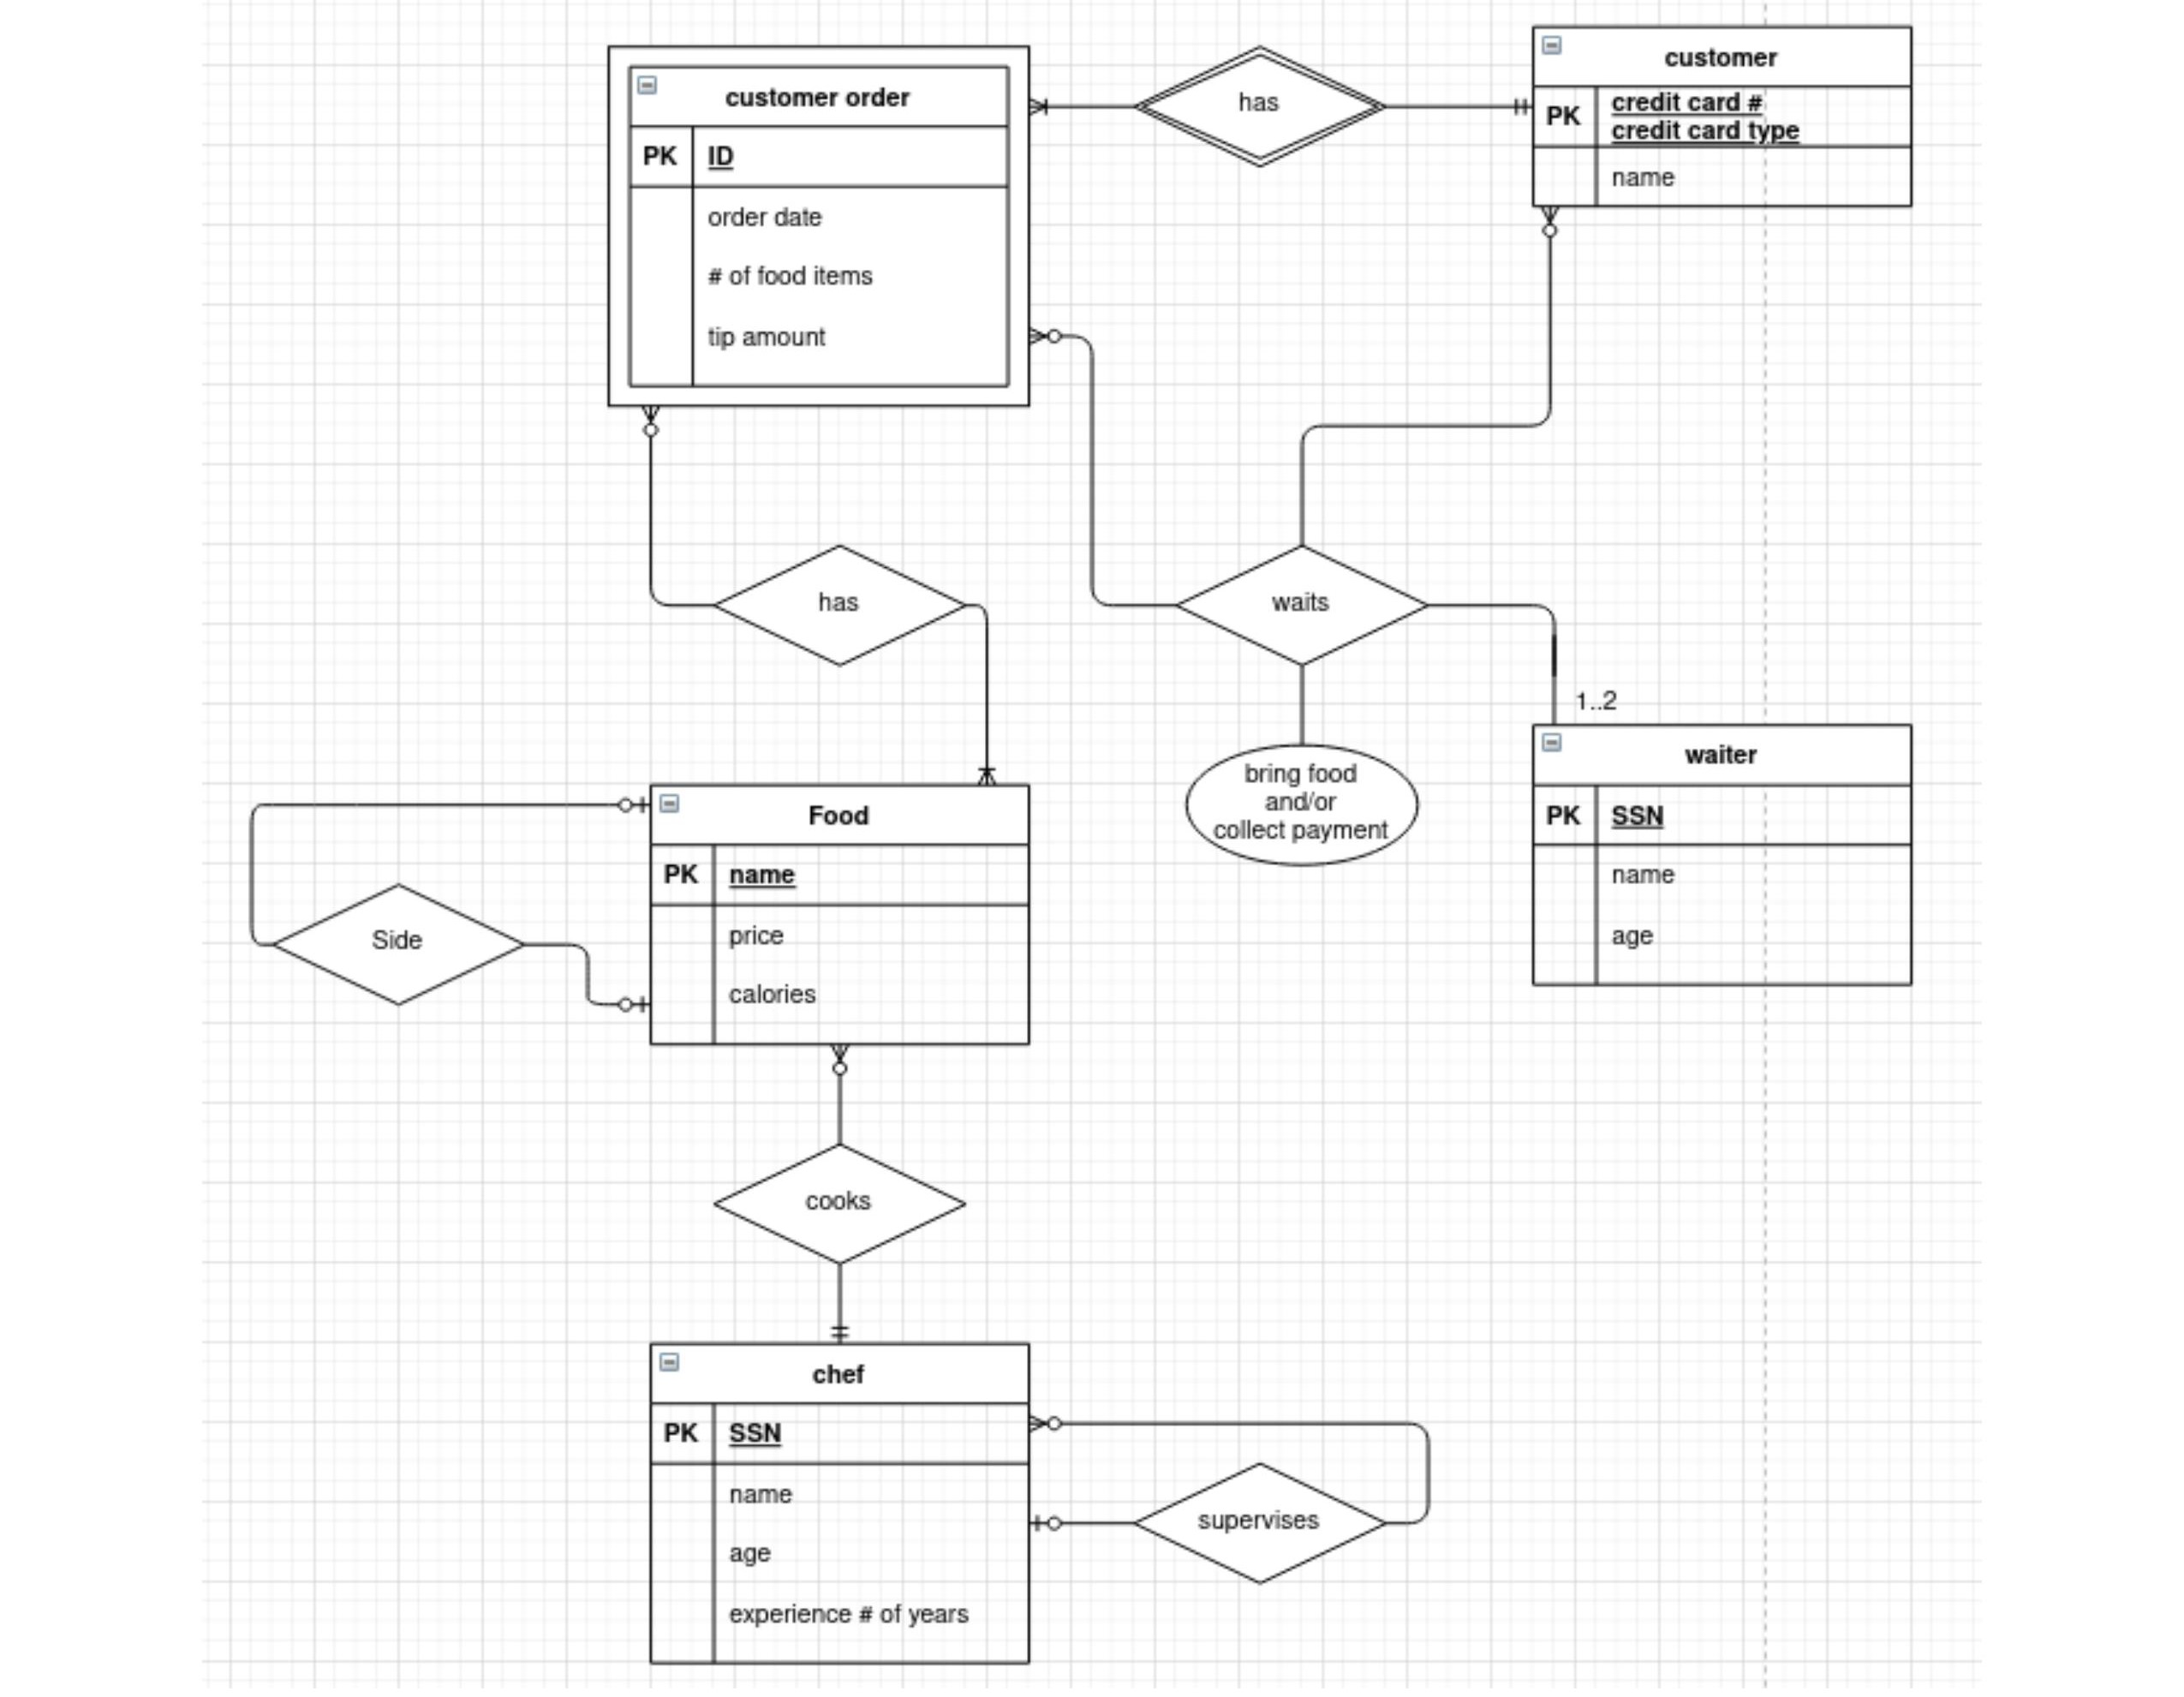Attribute: (1184, 741, 1422, 869)
Entity: (601, 39, 1041, 408), (645, 1341, 1037, 1670), (647, 778, 1033, 1048), (1528, 723, 1918, 988), (1528, 25, 1918, 211)
Relationship: (709, 544, 963, 669), (278, 881, 523, 1005), (1135, 1461, 1379, 1585), (716, 1144, 966, 1263), (1182, 546, 1427, 663), (1142, 46, 1383, 163)
